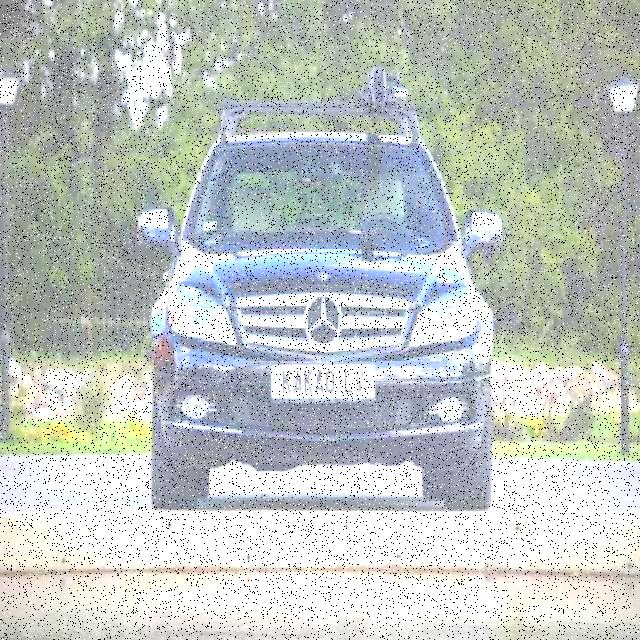license_plate: (272, 366, 374, 397)
